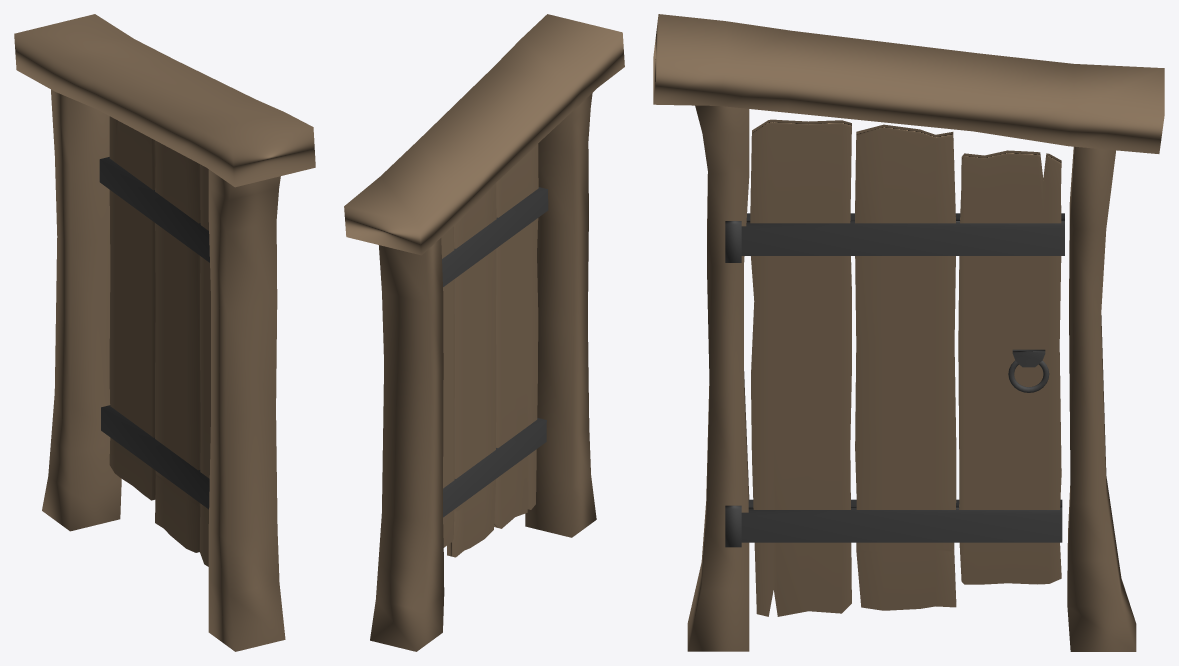
File: portal.fbx
The picture shows the model from 3 angles, left to right: view 1: azimuth 30°, elevation 25°; view 2: azimuth 150°, elevation 25°; view 3: azimuth 270°, elevation 25°; orthographic projection. The views are drawn at different scales.
Visible parts, largest first — view 1: Cube.007, portal_frame, Cube, Cube.001; view 2: Cube.007, Cube.001, Cube, portal_frame; view 3: Cube.007, Cube.001, portal_frame, Cube, Cube.012.
Part boxes in pixels (x1,y1,x2,y2): Cube.007: (99, 116, 210, 566); portal_frame: (208, 169, 285, 651); Cube: (42, 89, 121, 531); Cube.001: (14, 14, 315, 187); Cube.007: (441, 143, 548, 557); Cube.001: (344, 14, 624, 255); Cube: (370, 238, 444, 651); portal_frame: (525, 93, 596, 537); Cube.007: (741, 119, 1064, 616); Cube.001: (653, 14, 1164, 153); portal_frame: (687, 105, 749, 651); Cube: (1067, 146, 1136, 651); Cube.012: (725, 505, 741, 547).
Bounding box in the file's own units: 85.06 × 520 × 402.
